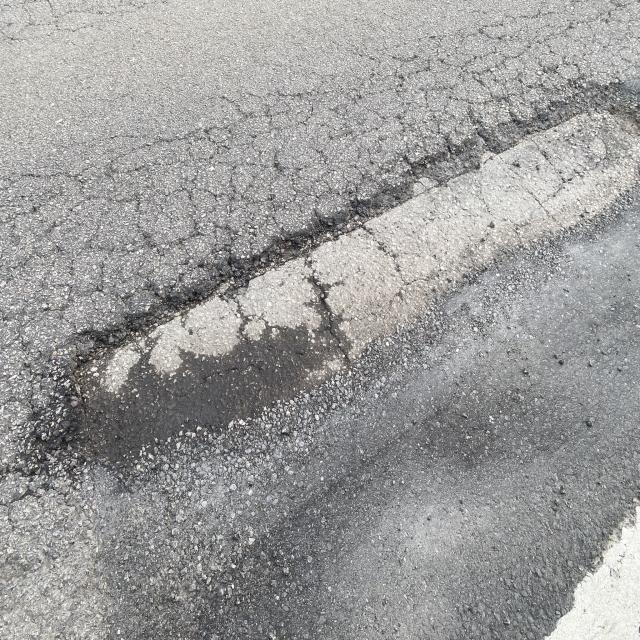Pothole: (1, 253, 640, 513)
